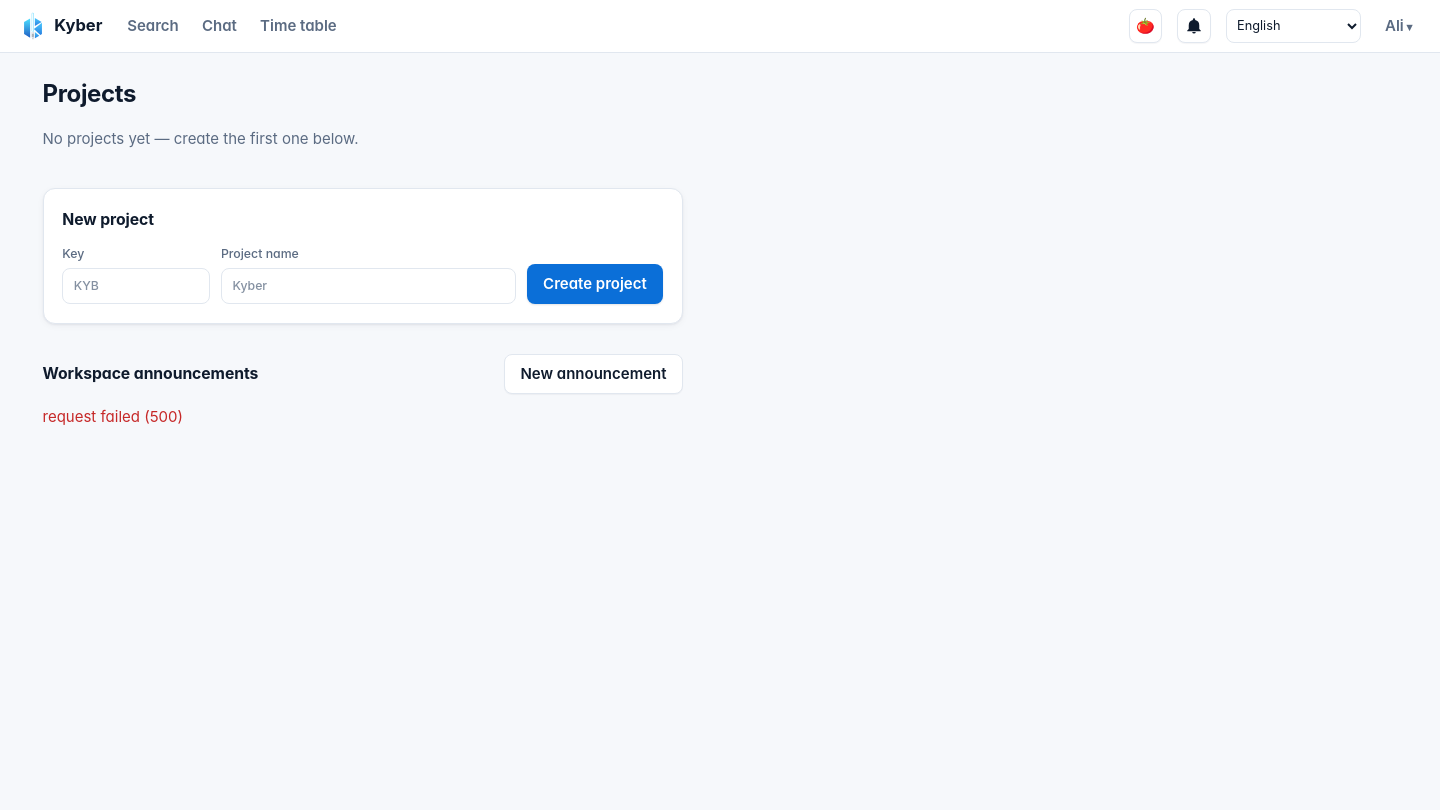
App routing and auth (KYB-S14 AC1, AC2) › creates a project and opens its board
Type "OPS" into the field labelled "Key".
click(136, 286); type("OPS")  # box [62, 268, 210, 304]
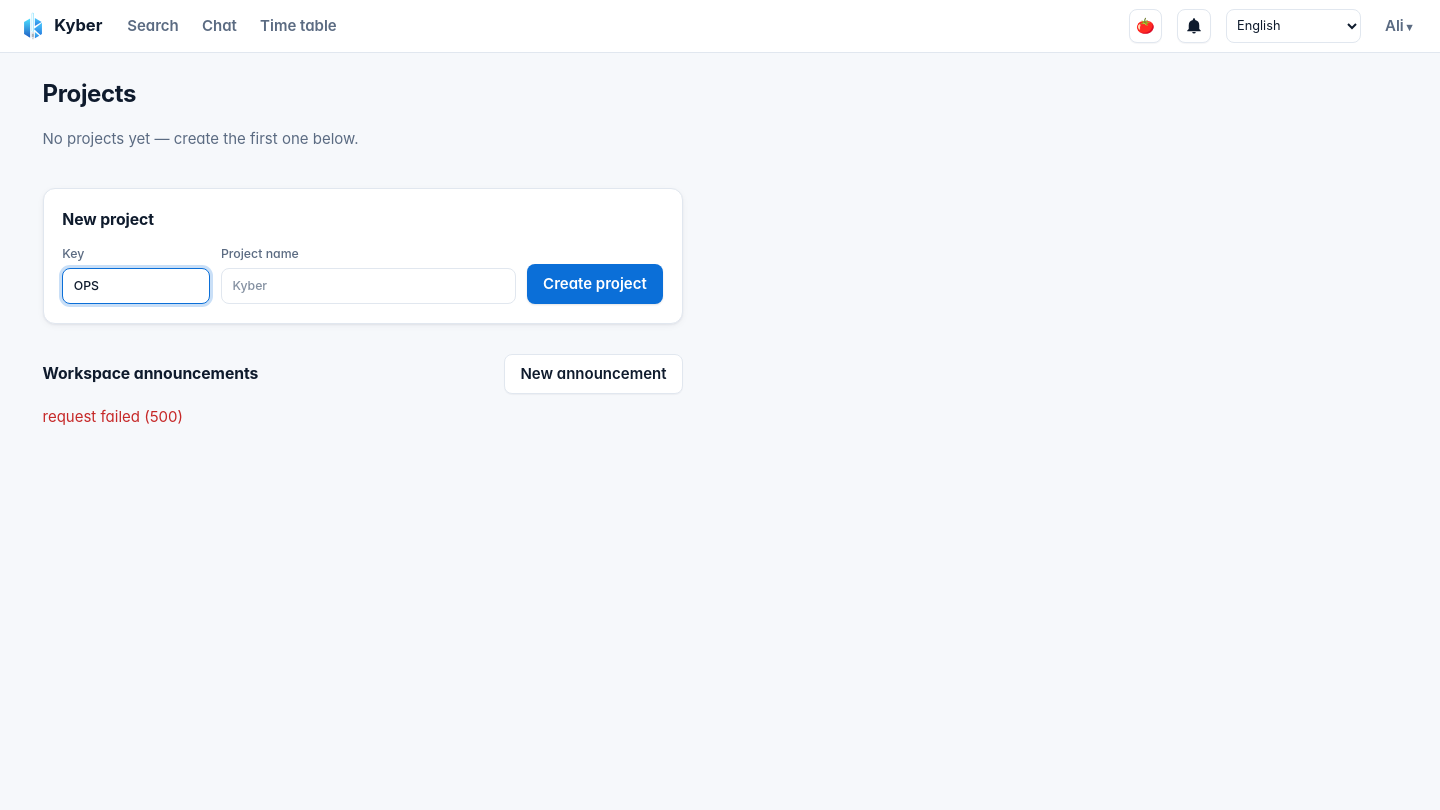
Type "Operations" into the field labelled "Project name".
click(368, 286); type("Operations")  # box [221, 268, 516, 304]
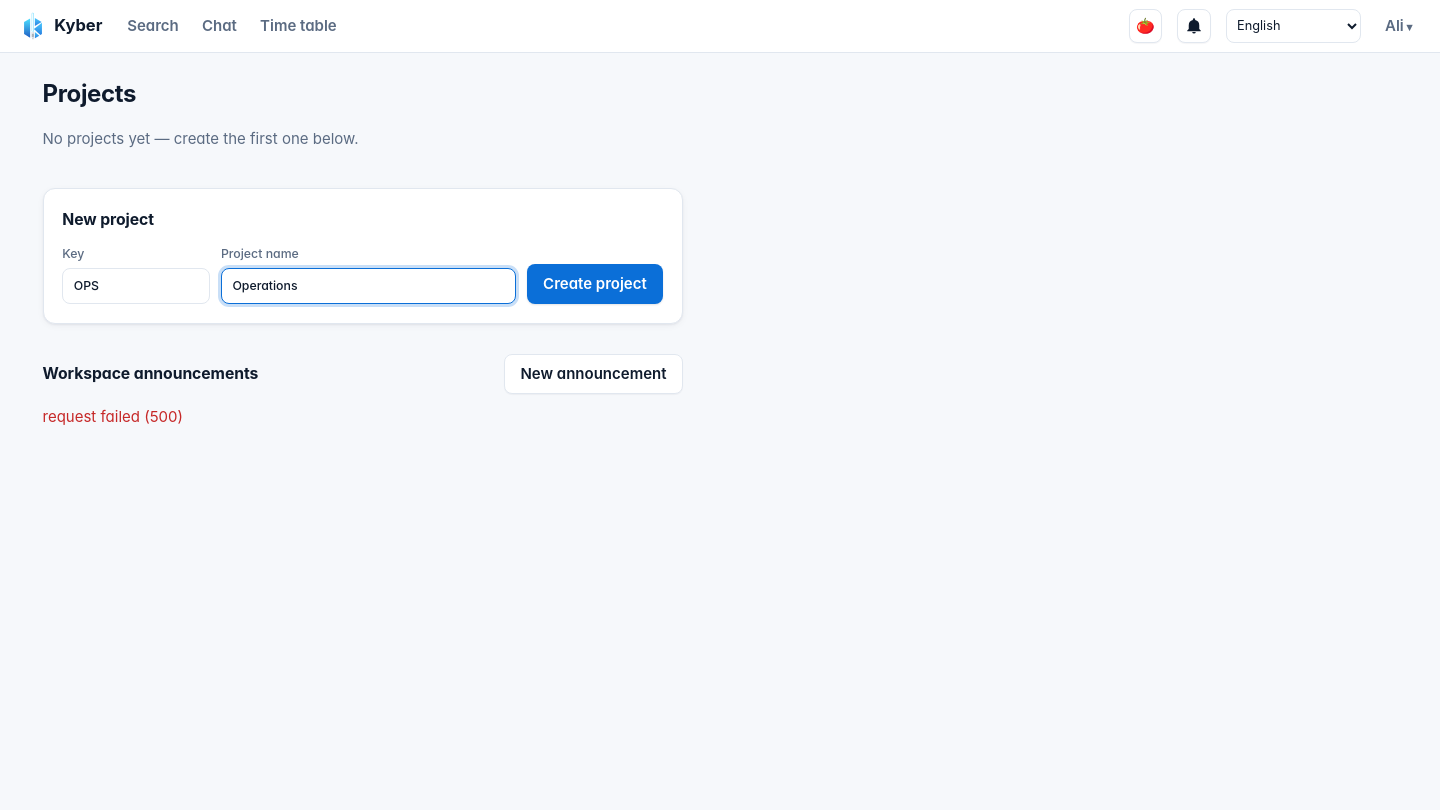
Click the button "Create project".
click(595, 284)  # box [527, 264, 663, 304]
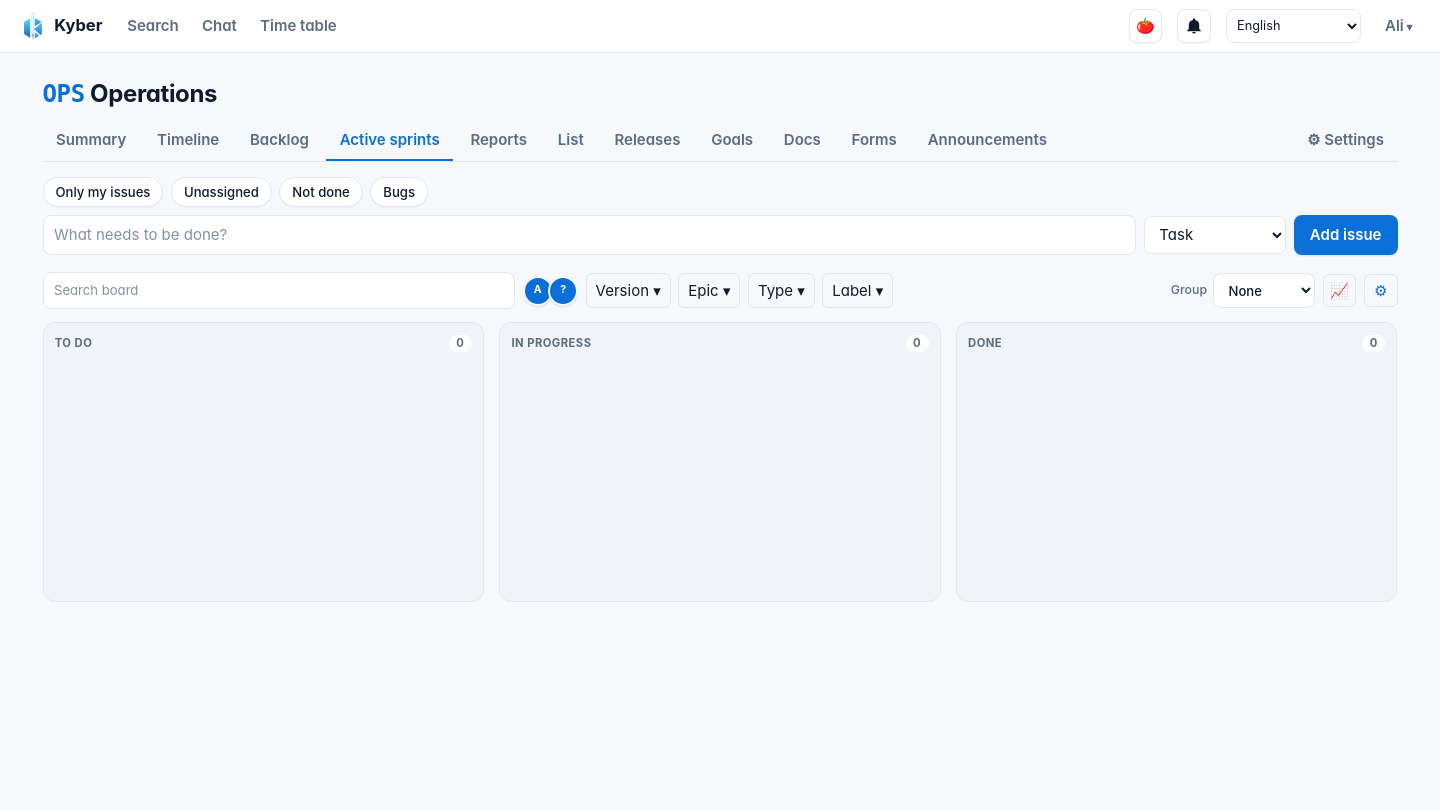
Expected: the heading "OPS Operations" is shown, [42, 79, 217, 108]
Expected: the element "To Do" is shown, [42, 322, 484, 602]
